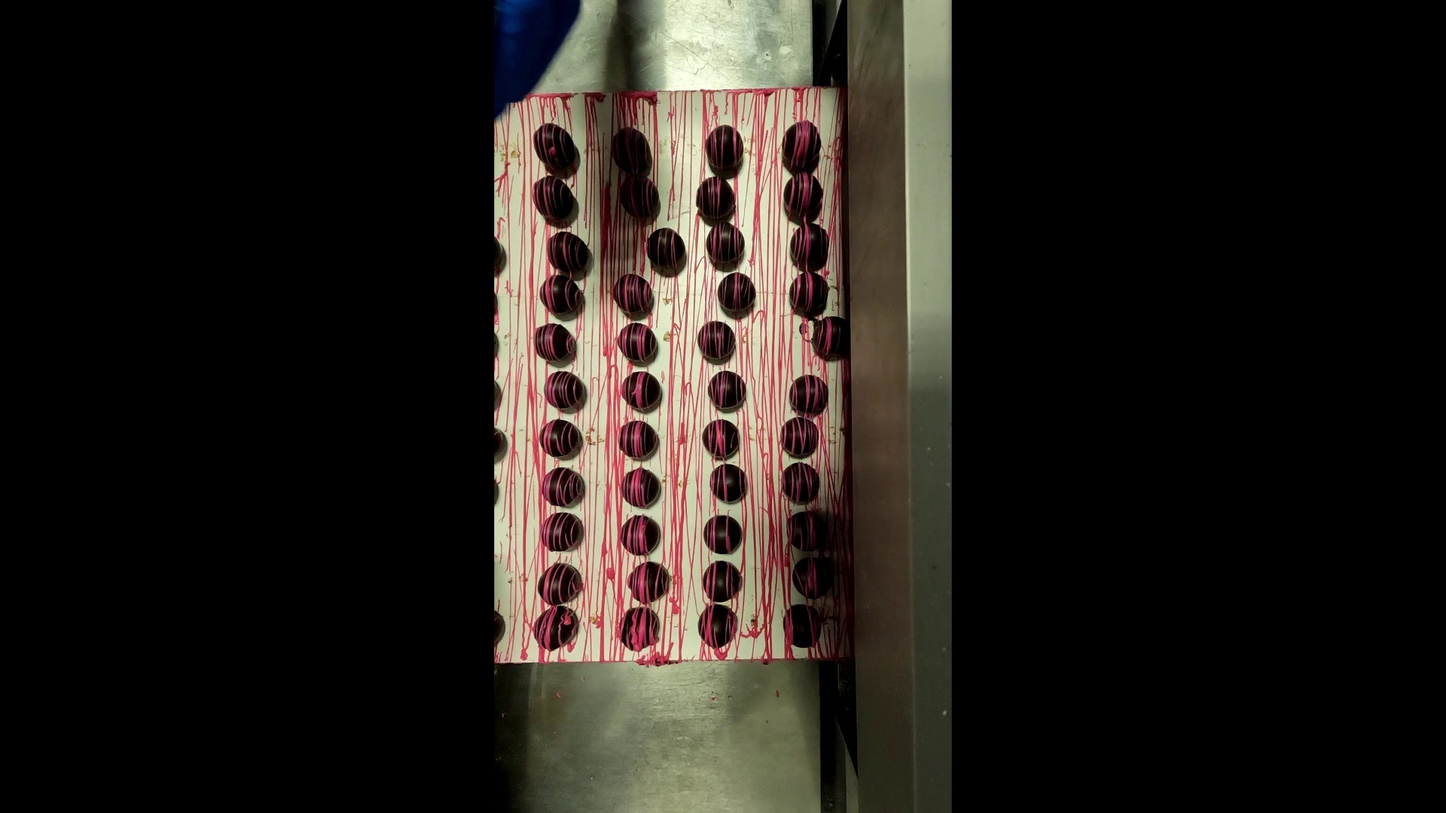truffle: (523, 117, 585, 175), (605, 120, 661, 179), (523, 167, 581, 223), (535, 364, 593, 419), (621, 551, 677, 607), (532, 460, 588, 515), (606, 268, 662, 322), (782, 369, 836, 425), (615, 359, 666, 418), (526, 604, 587, 653), (698, 505, 753, 559), (777, 114, 831, 169), (532, 269, 588, 322), (692, 596, 744, 653), (535, 413, 590, 466), (697, 119, 749, 175), (642, 221, 693, 278), (691, 308, 740, 367), (615, 460, 669, 513), (529, 555, 587, 604), (525, 318, 584, 366), (776, 600, 829, 653), (707, 458, 759, 512), (691, 167, 740, 224), (541, 224, 592, 278), (611, 601, 667, 650), (776, 166, 825, 222), (812, 315, 861, 370), (791, 550, 839, 606), (700, 218, 751, 269), (697, 555, 749, 605), (786, 221, 836, 273), (698, 411, 745, 466), (611, 412, 661, 463), (615, 171, 664, 223), (533, 511, 589, 556), (612, 316, 661, 367), (616, 509, 666, 558), (782, 505, 831, 555), (713, 266, 762, 315), (776, 454, 821, 507), (783, 267, 828, 318), (705, 365, 750, 414), (777, 414, 821, 461)
